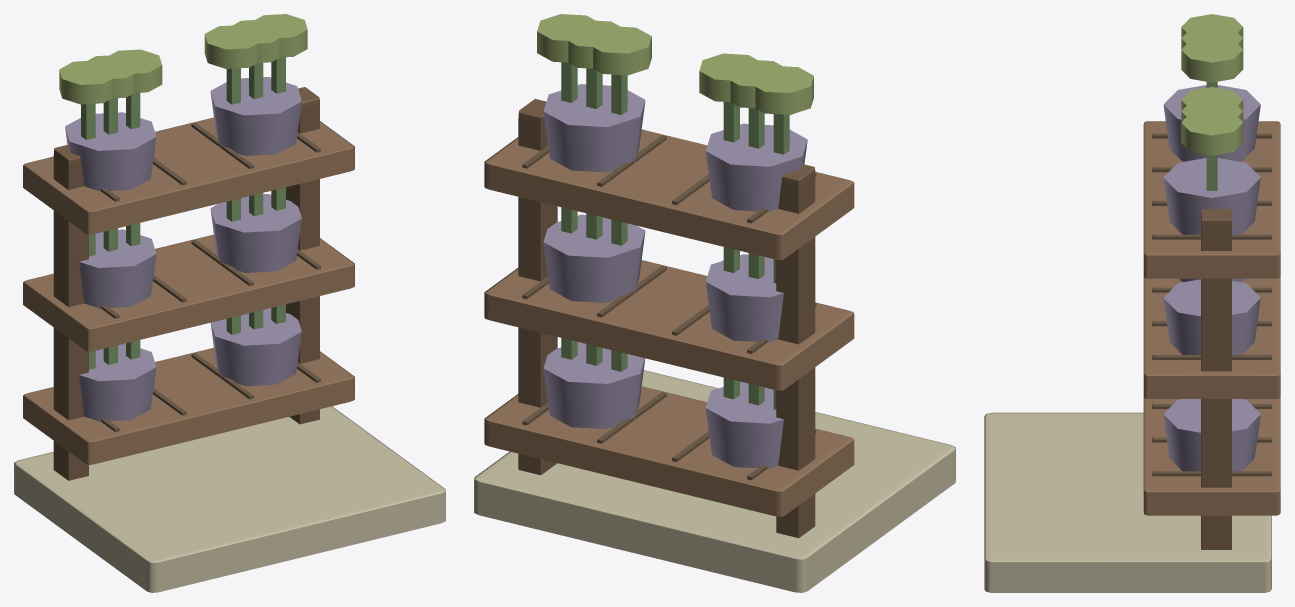
Rendered from herbshelf-2.glb.
The picture shows the model from 3 angles, left to right: view 1: azimuth 30°, elevation 25°; view 2: azimuth 150°, elevation 25°; view 3: azimuth 270°, elevation 25°; orthographic projection. The views are drawn at different scales.
Parts seen in each view (by area): view 1: herbshelf-2-0; view 2: herbshelf-2-0; view 3: herbshelf-2-0.
Part boxes in pixels (box(x1,y1,x2,y2)): herbshelf-2-0: box(14, 14, 445, 592); herbshelf-2-0: box(474, 14, 955, 592); herbshelf-2-0: box(984, 14, 1280, 592).
Bounding box in the file's own units: 0.8 × 1.1 × 0.67.
